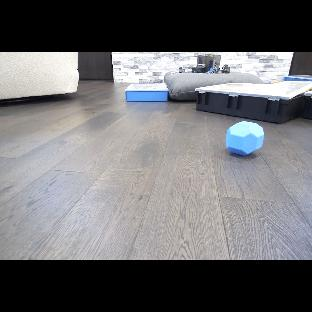V5_BLUE: (221, 115, 265, 157)
